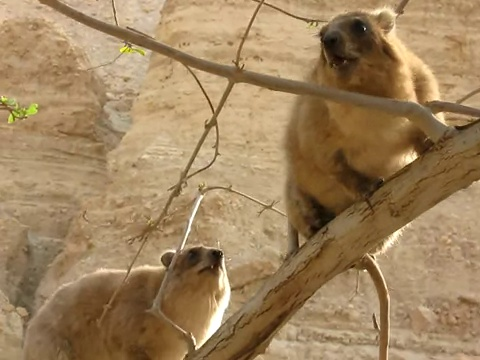Rock Hyrex: (286, 9, 436, 241), (22, 248, 228, 360)
